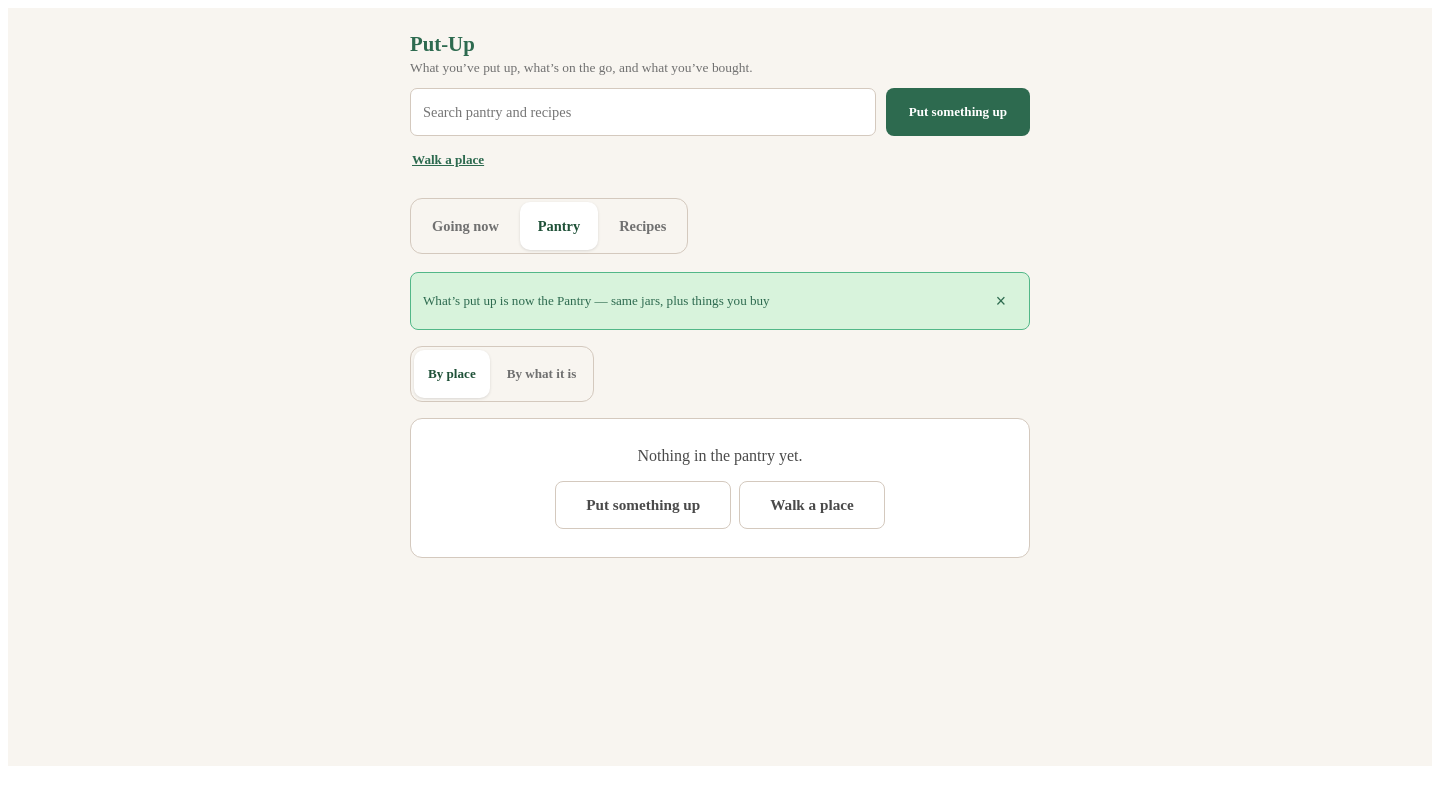
Test case: PutUp — the bare-open default lands on "Going now" when something is going › a manual tap reaches Going now from either other segment
Click the radio button labelled "Going now": (465, 226) 414,202 -> 517,250
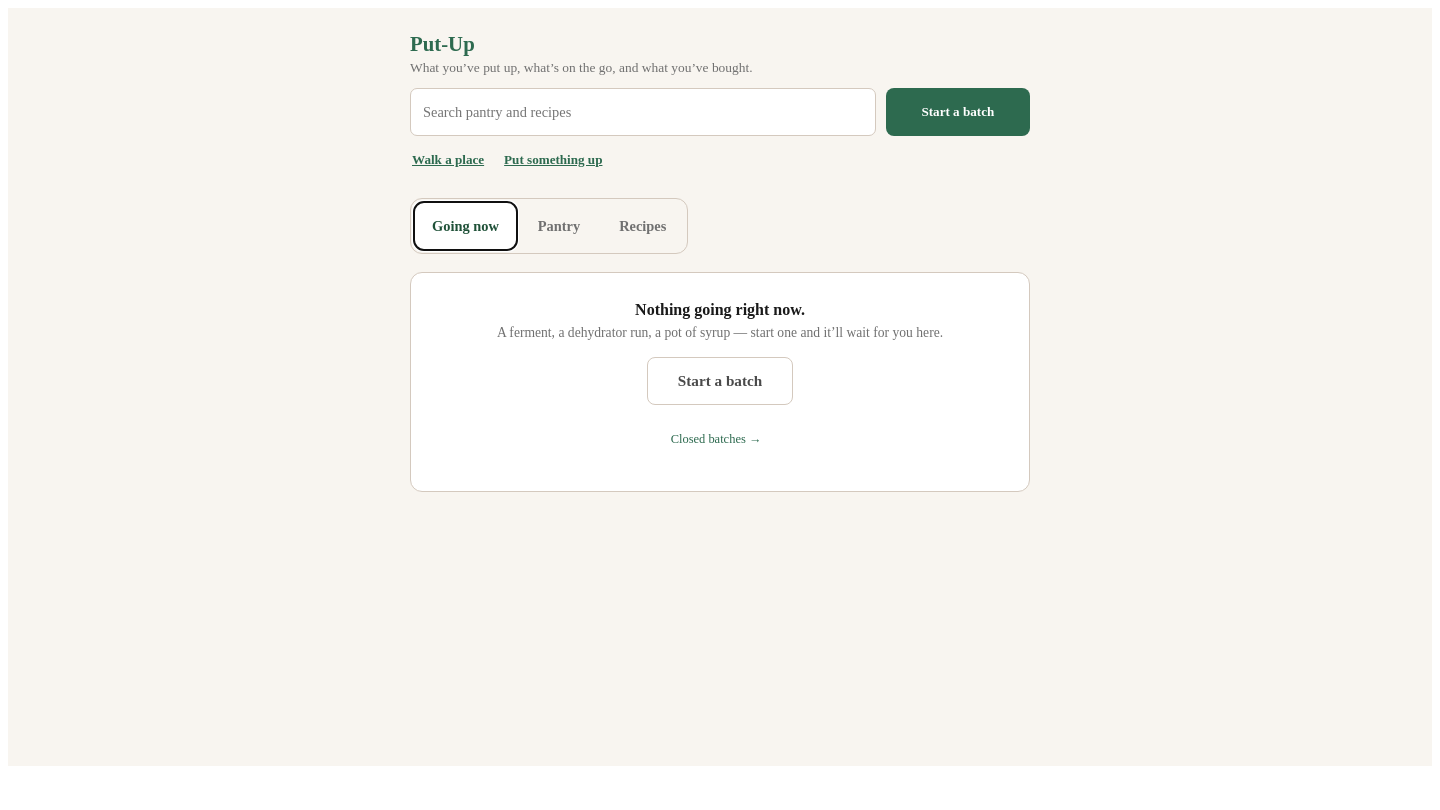
Result: the element with test id "going-empty" is shown at 410,272 -> 1030,492
